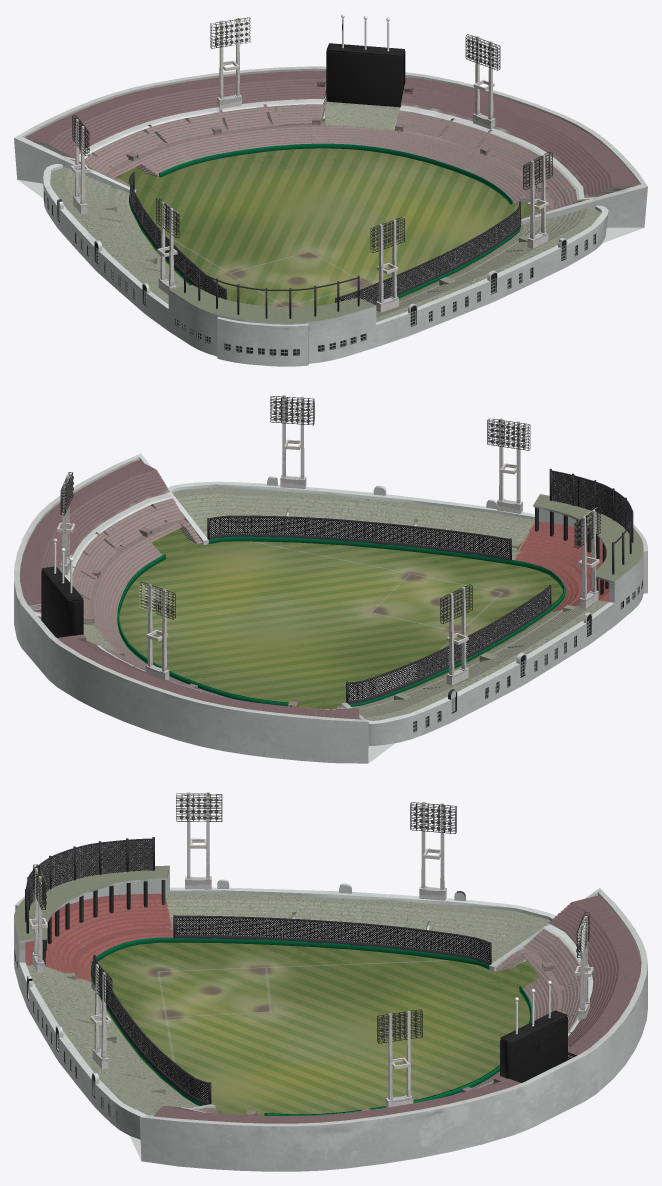
File: bball_field.fbx
3 views of the same model, one above another, from view 1: azimuth 30°, elevation 25°; view 2: azimuth 150°, elevation 25°; view 3: azimuth 270°, elevation 25° (orthographic). The views are drawn at different scales.
Visible parts, largest first — view 1: bball_m2, bball_m1, bball_m3, bball_m4, wire_bball; view 2: bball_m1, bball_m2, bball_m3, wire_bball, bball_m4; view 3: bball_m1, bball_m2, bball_m3, wire_bball, bball_m4.
Part boxes in pixels (x1=…): bball_m2: x1=14, y1=66, x2=647, y2=366; bball_m1: x1=71, y1=17, x2=552, y2=312; bball_m3: x1=50, y1=98, x2=601, y2=322; bball_m4: x1=45, y1=14, x2=595, y2=355; wire_bball: x1=129, y1=172, x2=521, y2=318; bball_m1: x1=57, y1=395, x2=600, y2=708; bball_m2: x1=14, y1=453, x2=647, y2=763; bball_m3: x1=38, y1=487, x2=609, y2=720; wire_bball: x1=207, y1=469, x2=633, y2=703; bball_m4: x1=41, y1=536, x2=641, y2=731; bball_m1: x1=29, y1=792, x2=593, y2=1115; bball_m2: x1=14, y1=865, x2=647, y2=1171; bball_m3: x1=25, y1=893, x2=580, y2=1115; wire_bball: x1=25, y1=837, x2=491, y2=1104; bball_m4: x1=16, y1=937, x2=567, y2=1122.
Size of the model in its own units: 416 by 93.64 by 429.
